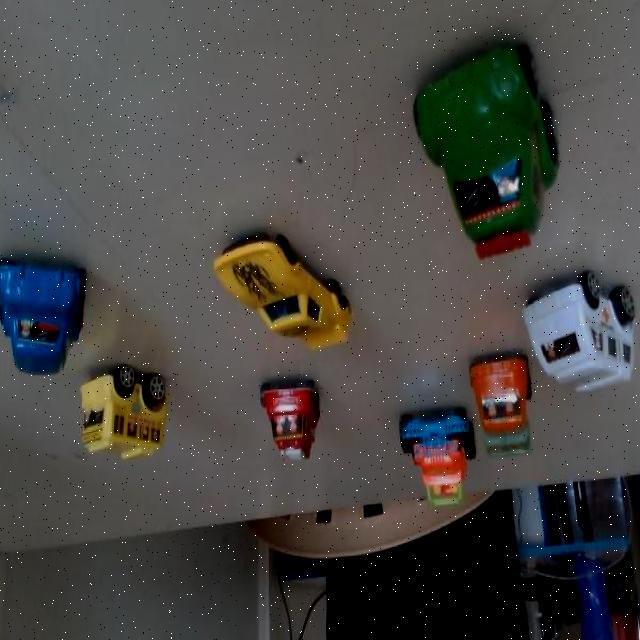car: (416, 58, 581, 256), (207, 220, 364, 364), (528, 262, 640, 404), (0, 250, 89, 380), (88, 356, 178, 461), (469, 348, 541, 472), (390, 411, 472, 516), (260, 368, 334, 474)
